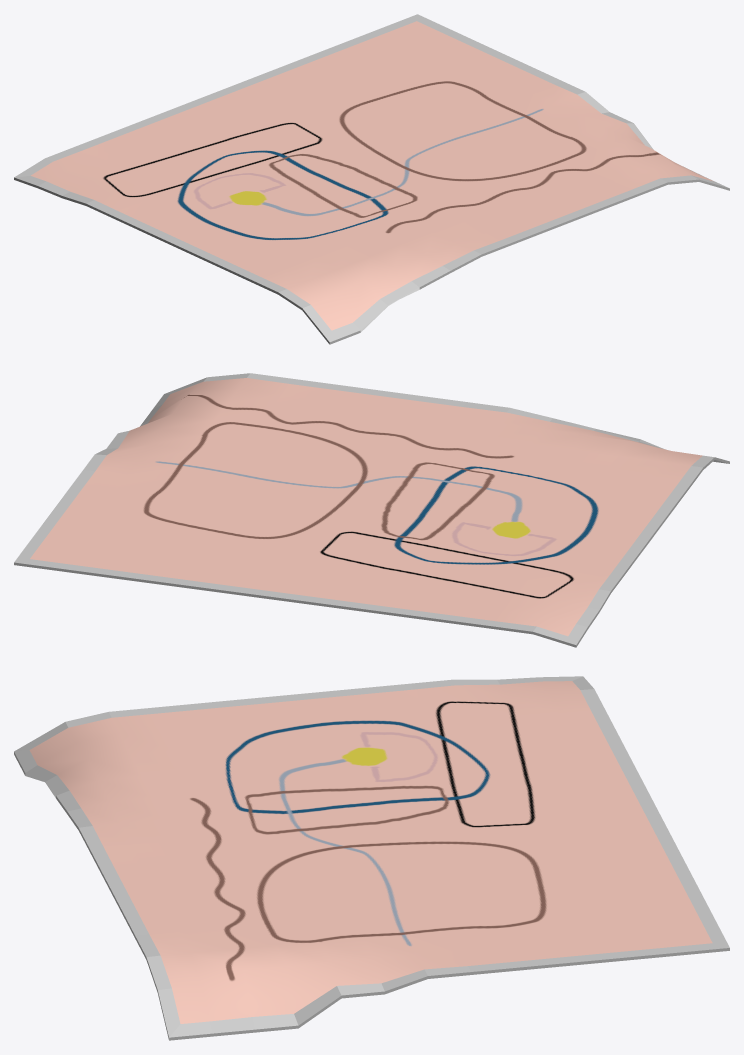
Rendered from _lanket.FBX.
The picture shows the model from 3 angles, top to bottom: view 1: azimuth 30°, elevation 25°; view 2: azimuth 150°, elevation 25°; view 3: azimuth 270°, elevation 25°; orthographic projection. The views are drawn at different scales.
Parts seen in each view (by area): view 1: blanket001, Outline, Blanket; view 2: blanket001, Outline, Blanket; view 3: blanket001, Outline, Blanket.
Part boxes in pixels (x1,y1,x2,y2): blanket001: (31,21,713,330); Outline: (14,14,728,341); Blanket: (14,177,729,344); blanket001: (30,378,702,636); Outline: (14,373,714,644); Blanket: (14,429,729,647); blanket001: (29,681,712,1023); Outline: (14,676,729,1037); Blanket: (14,752,729,1040).
Bounding box in the file's own units: 283 × 16.29 × 257.
Materials: 2 (1 with a texture image).
